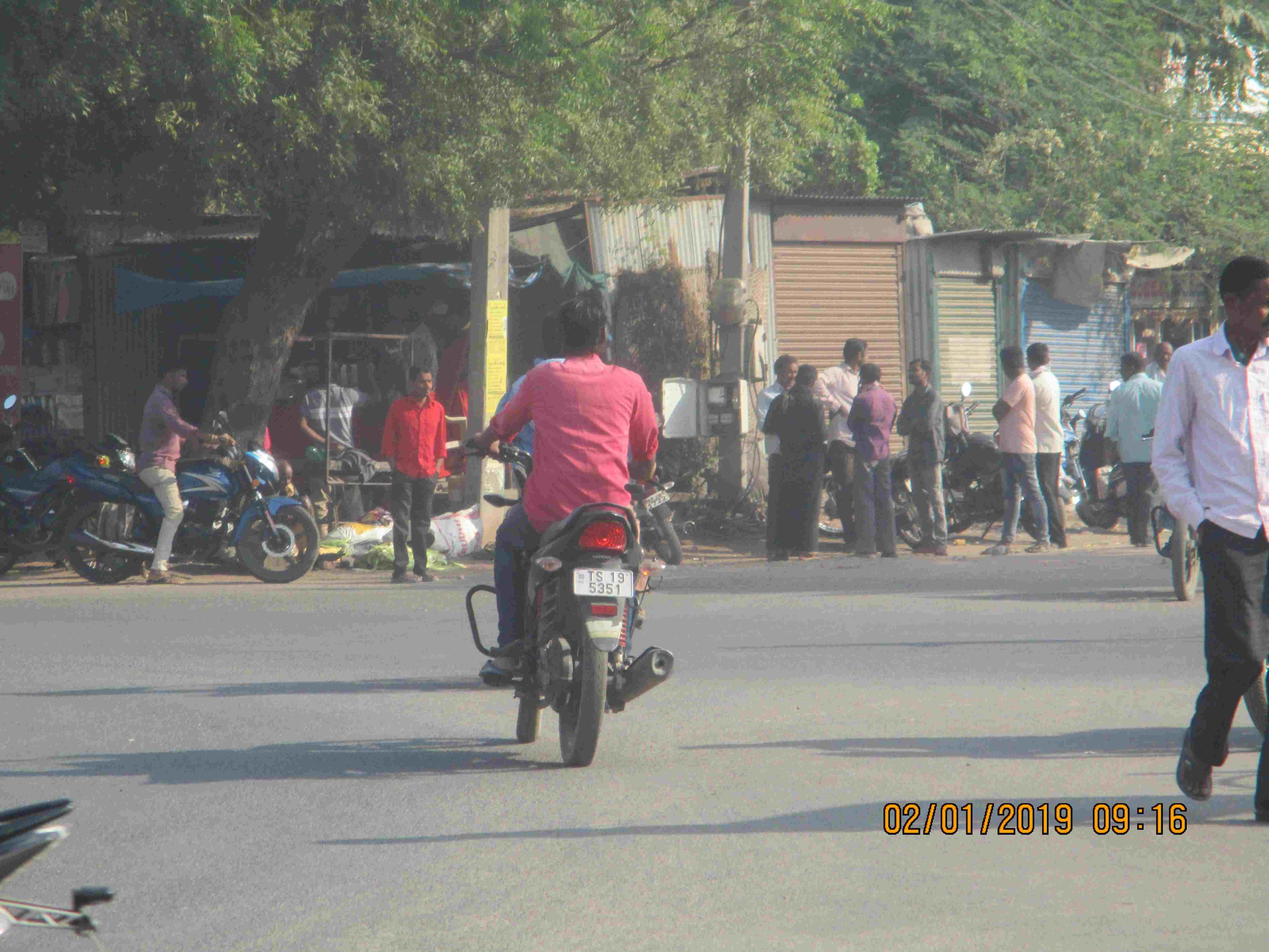plate: (569, 563, 642, 602)
